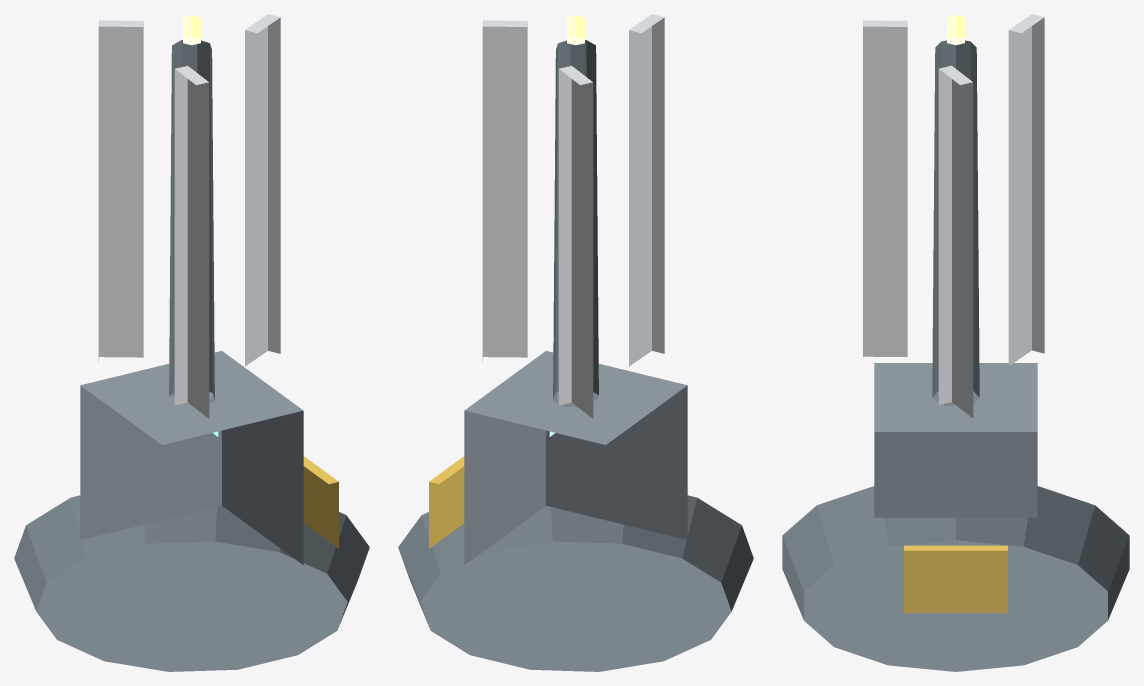
File: solar.glb
3 views of the same model, side by side, from view 1: azimuth 30°, elevation 25°; view 2: azimuth 150°, elevation 25°; view 3: azimuth 270°, elevation 25° (orthographic).
Visible parts, largest first — view 1: VH_WindPower; view 2: VH_WindPower; view 3: VH_WindPower.
Part boxes in pixels (bbox=[...]): VH_WindPower: bbox=[14, 14, 369, 671]; VH_WindPower: bbox=[398, 14, 753, 671]; VH_WindPower: bbox=[782, 14, 1129, 671].
Size of the model in its own units: 2.4 by 4.36 by 2.34.
